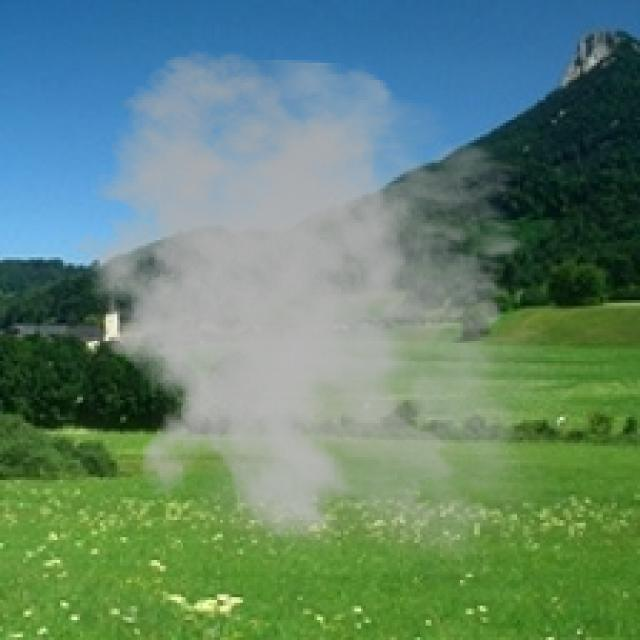smoke: (54, 49, 586, 588)
